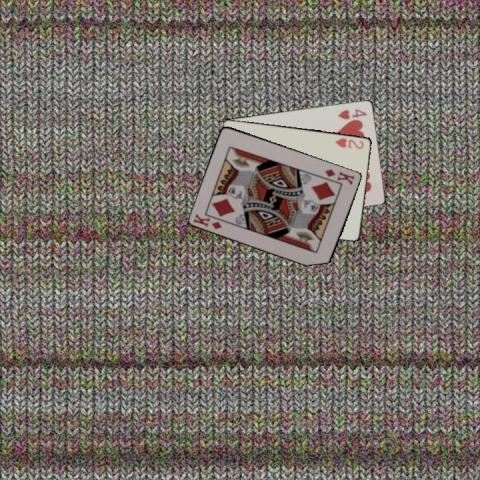2h: (333, 135, 365, 150)
4h: (335, 106, 369, 120)
Kd: (322, 166, 356, 186), (191, 210, 224, 230)
